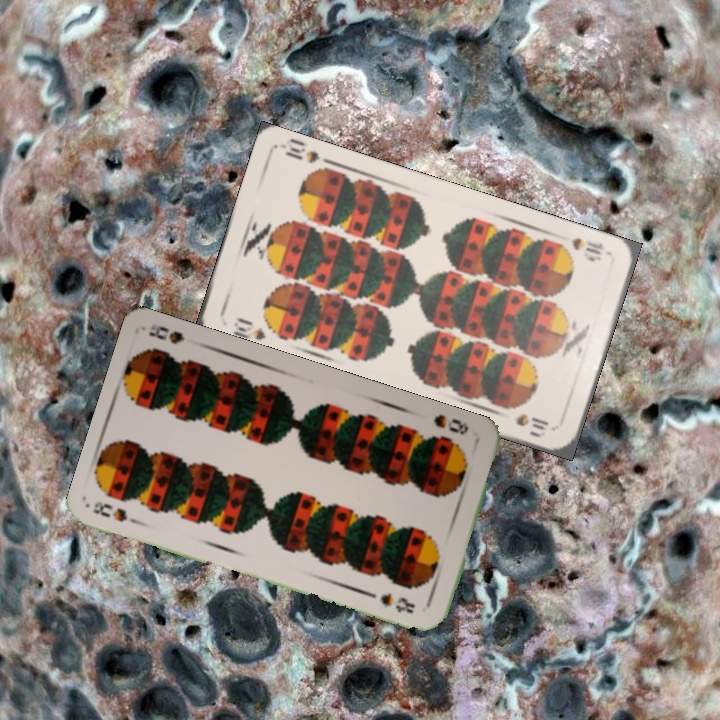S10: (553, 233, 608, 264), (229, 315, 269, 343)
S8: (88, 497, 147, 529), (429, 410, 472, 438)
